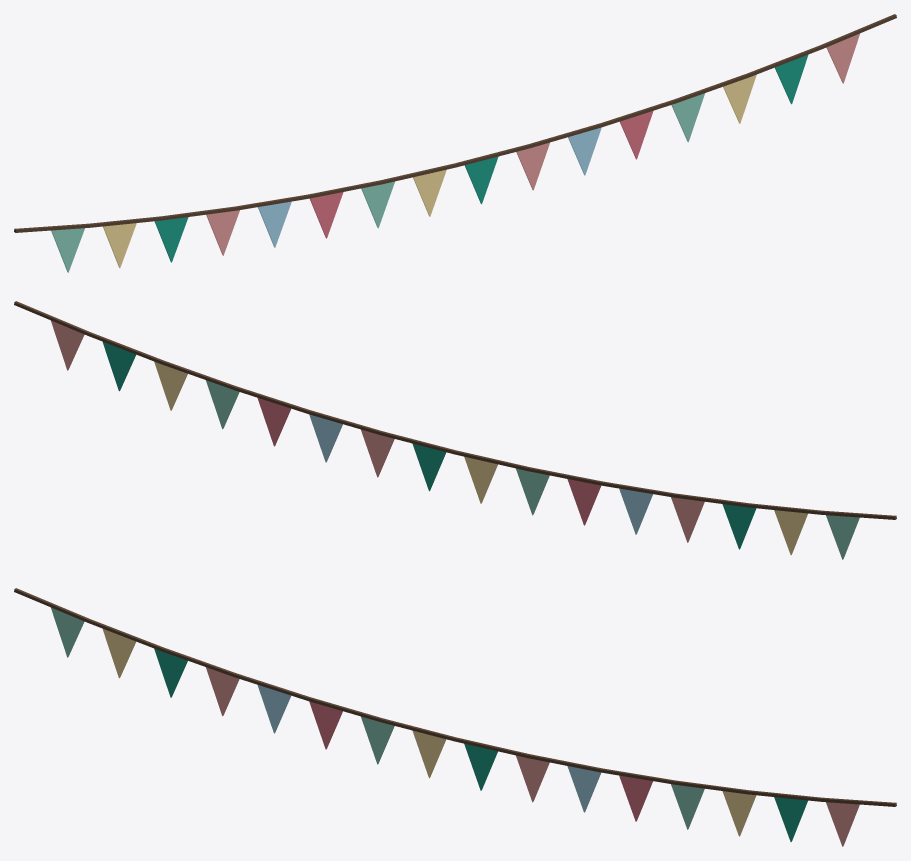
File: CatCafe_Square_Bunting.fbx
3 views of the same model, one above another, from view 1: azimuth 30°, elevation 25°; view 2: azimuth 150°, elevation 25°; view 3: azimuth 330°, elevation 25° (orthographic).
Visible parts, largest first — view 1: CatCafe_Square_Bunting, CatCafe_Square_Bunting_Flag16_Pennant, CatCafe_Square_Bunting_Flag12_Pennant, CatCafe_Square_Bunting_Flag08_Pennant, CatCafe_Square_Bunting_Flag09_Pennant, CatCafe_Square_Bunting_Flag15_Pennant, CatCafe_Square_Bunting_Flag05_Pennant, CatCafe_Square_Bunting_Flag13_Pennant, CatCafe_Square_Bunting_Flag14_Pennant, CatCafe_Square_Bunting_Flag02_Pennant, CatCafe_Square_Bunting_Flag06_Pennant, CatCafe_Square_Bunting_Flag11_Pennant (+5 smaller); view 2: CatCafe_Square_Bunting, CatCafe_Square_Bunting_Flag16_Pennant, CatCafe_Square_Bunting_Flag12_Pennant, CatCafe_Square_Bunting_Flag08_Pennant, CatCafe_Square_Bunting_Flag09_Pennant, CatCafe_Square_Bunting_Flag15_Pennant, CatCafe_Square_Bunting_Flag05_Pennant, CatCafe_Square_Bunting_Flag13_Pennant, CatCafe_Square_Bunting_Flag14_Pennant, CatCafe_Square_Bunting_Flag02_Pennant, CatCafe_Square_Bunting_Flag06_Pennant, CatCafe_Square_Bunting_Flag11_Pennant (+5 smaller); view 3: CatCafe_Square_Bunting, CatCafe_Square_Bunting_Flag01_Pennant, CatCafe_Square_Bunting_Flag05_Pennant, CatCafe_Square_Bunting_Flag09_Pennant, CatCafe_Square_Bunting_Flag02_Pennant, CatCafe_Square_Bunting_Flag08_Pennant, CatCafe_Square_Bunting_Flag04_Pennant, CatCafe_Square_Bunting_Flag12_Pennant, CatCafe_Square_Bunting_Flag03_Pennant, CatCafe_Square_Bunting_Flag06_Pennant, CatCafe_Square_Bunting_Flag11_Pennant, CatCafe_Square_Bunting_Flag15_Pennant (+5 smaller).
Part boxes in pixels (bbox=[...]): CatCafe_Square_Bunting: bbox=[14, 14, 896, 232]; CatCafe_Square_Bunting_Flag16_Pennant: bbox=[51, 228, 84, 272]; CatCafe_Square_Bunting_Flag12_Pennant: bbox=[258, 201, 291, 247]; CatCafe_Square_Bunting_Flag08_Pennant: bbox=[464, 156, 498, 204]; CatCafe_Square_Bunting_Flag09_Pennant: bbox=[413, 169, 446, 216]; CatCafe_Square_Bunting_Flag15_Pennant: bbox=[103, 223, 136, 267]; CatCafe_Square_Bunting_Flag05_Pennant: bbox=[620, 110, 653, 159]; CatCafe_Square_Bunting_Flag13_Pennant: bbox=[206, 210, 239, 255]; CatCafe_Square_Bunting_Flag14_Pennant: bbox=[154, 217, 188, 262]; CatCafe_Square_Bunting_Flag02_Pennant: bbox=[775, 55, 808, 104]; CatCafe_Square_Bunting_Flag06_Pennant: bbox=[568, 127, 601, 175]; CatCafe_Square_Bunting_Flag11_Pennant: bbox=[310, 192, 343, 238]; CatCafe_Square_Bunting: bbox=[14, 301, 896, 519]; CatCafe_Square_Bunting_Flag16_Pennant: bbox=[826, 515, 859, 559]; CatCafe_Square_Bunting_Flag12_Pennant: bbox=[619, 488, 652, 534]; CatCafe_Square_Bunting_Flag08_Pennant: bbox=[412, 443, 446, 491]; CatCafe_Square_Bunting_Flag09_Pennant: bbox=[464, 456, 497, 503]; CatCafe_Square_Bunting_Flag15_Pennant: bbox=[774, 510, 807, 554]; CatCafe_Square_Bunting_Flag05_Pennant: bbox=[257, 397, 290, 446]; CatCafe_Square_Bunting_Flag13_Pennant: bbox=[671, 497, 704, 542]; CatCafe_Square_Bunting_Flag14_Pennant: bbox=[722, 504, 756, 549]; CatCafe_Square_Bunting_Flag02_Pennant: bbox=[102, 342, 135, 391]; CatCafe_Square_Bunting_Flag06_Pennant: bbox=[309, 414, 342, 462]; CatCafe_Square_Bunting_Flag11_Pennant: bbox=[567, 479, 600, 525]; CatCafe_Square_Bunting: bbox=[14, 588, 896, 806]; CatCafe_Square_Bunting_Flag01_Pennant: bbox=[826, 802, 859, 846]; CatCafe_Square_Bunting_Flag05_Pennant: bbox=[619, 775, 652, 821]; CatCafe_Square_Bunting_Flag09_Pennant: bbox=[412, 730, 446, 778]; CatCafe_Square_Bunting_Flag02_Pennant: bbox=[774, 797, 807, 841]; CatCafe_Square_Bunting_Flag08_Pennant: bbox=[464, 743, 497, 790]; CatCafe_Square_Bunting_Flag04_Pennant: bbox=[671, 784, 704, 829]; CatCafe_Square_Bunting_Flag12_Pennant: bbox=[257, 684, 290, 733]; CatCafe_Square_Bunting_Flag03_Pennant: bbox=[722, 791, 756, 836]; CatCafe_Square_Bunting_Flag06_Pennant: bbox=[567, 766, 600, 812]; CatCafe_Square_Bunting_Flag11_Pennant: bbox=[309, 701, 342, 749]; CatCafe_Square_Bunting_Flag15_Pennant: bbox=[102, 629, 135, 678].
Bounding box in the file's own units: 22.06 × 2.11 × 0.07.
Materials: 1 (1 with a texture image).
